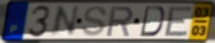3: (27, 4, 51, 39)
D: (138, 5, 166, 38)
E: (163, 5, 194, 38)
N: (48, 4, 81, 38)
R: (105, 5, 135, 38)
S: (80, 5, 109, 38)
